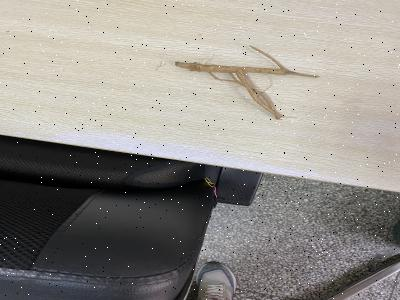Root: (175, 46, 319, 119)
